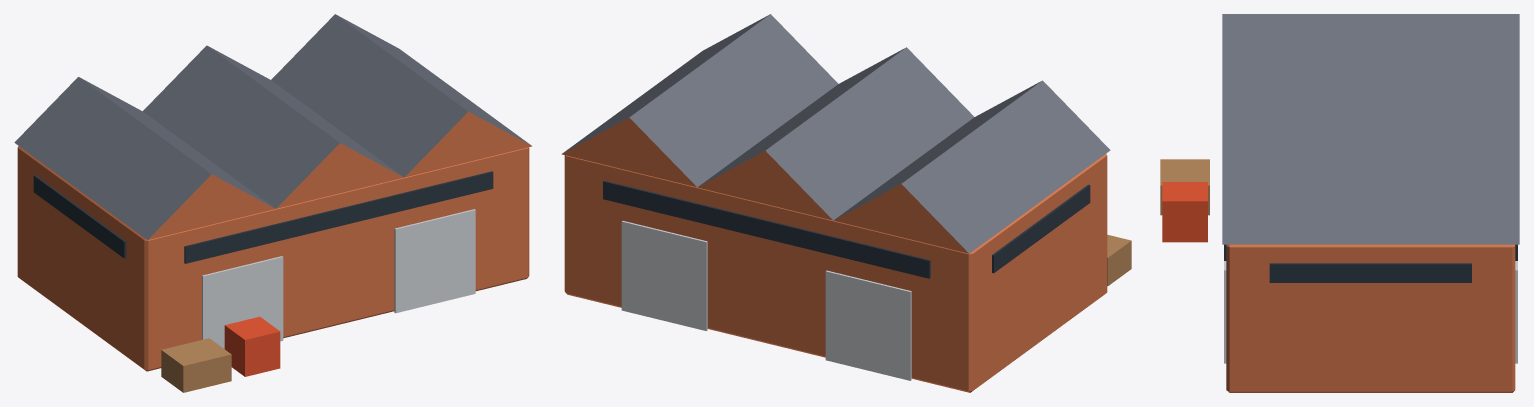
The model's file is d_warehouse.fbx.
The picture shows the model from 3 angles, left to right: view 1: azimuth 30°, elevation 25°; view 2: azimuth 150°, elevation 25°; view 3: azimuth 270°, elevation 25°; orthographic projection. The views are drawn at different scales.
Visible parts, largest first — view 1: d_warehouse; view 2: d_warehouse; view 3: d_warehouse.
Boxes of the visible parts, bbox=[...] form: d_warehouse: bbox=[14, 14, 531, 392]; d_warehouse: bbox=[561, 14, 1131, 392]; d_warehouse: bbox=[1160, 14, 1519, 392].
Bounding box in the file's own units: 24.24 × 11 × 17.4.
